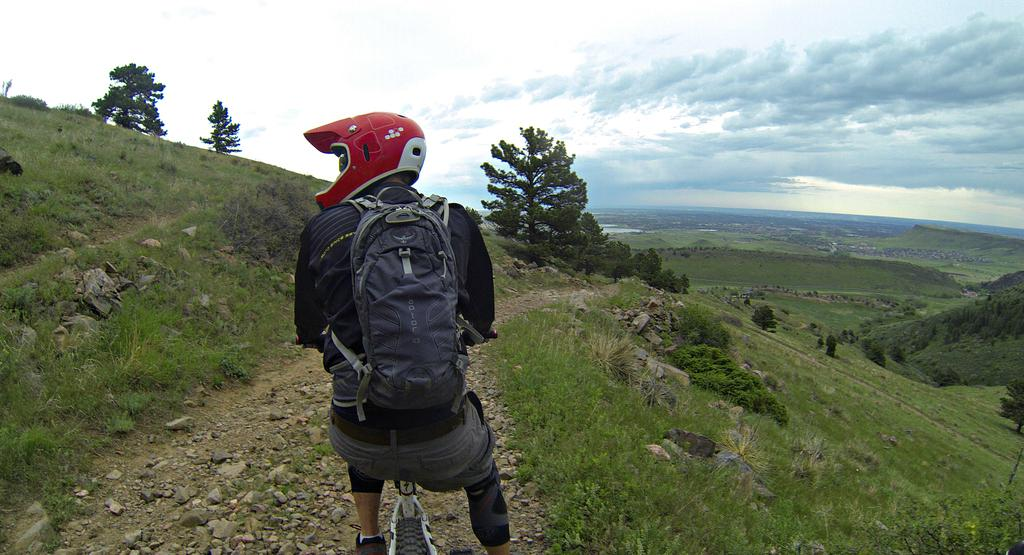helmet: (303, 111, 427, 213)
